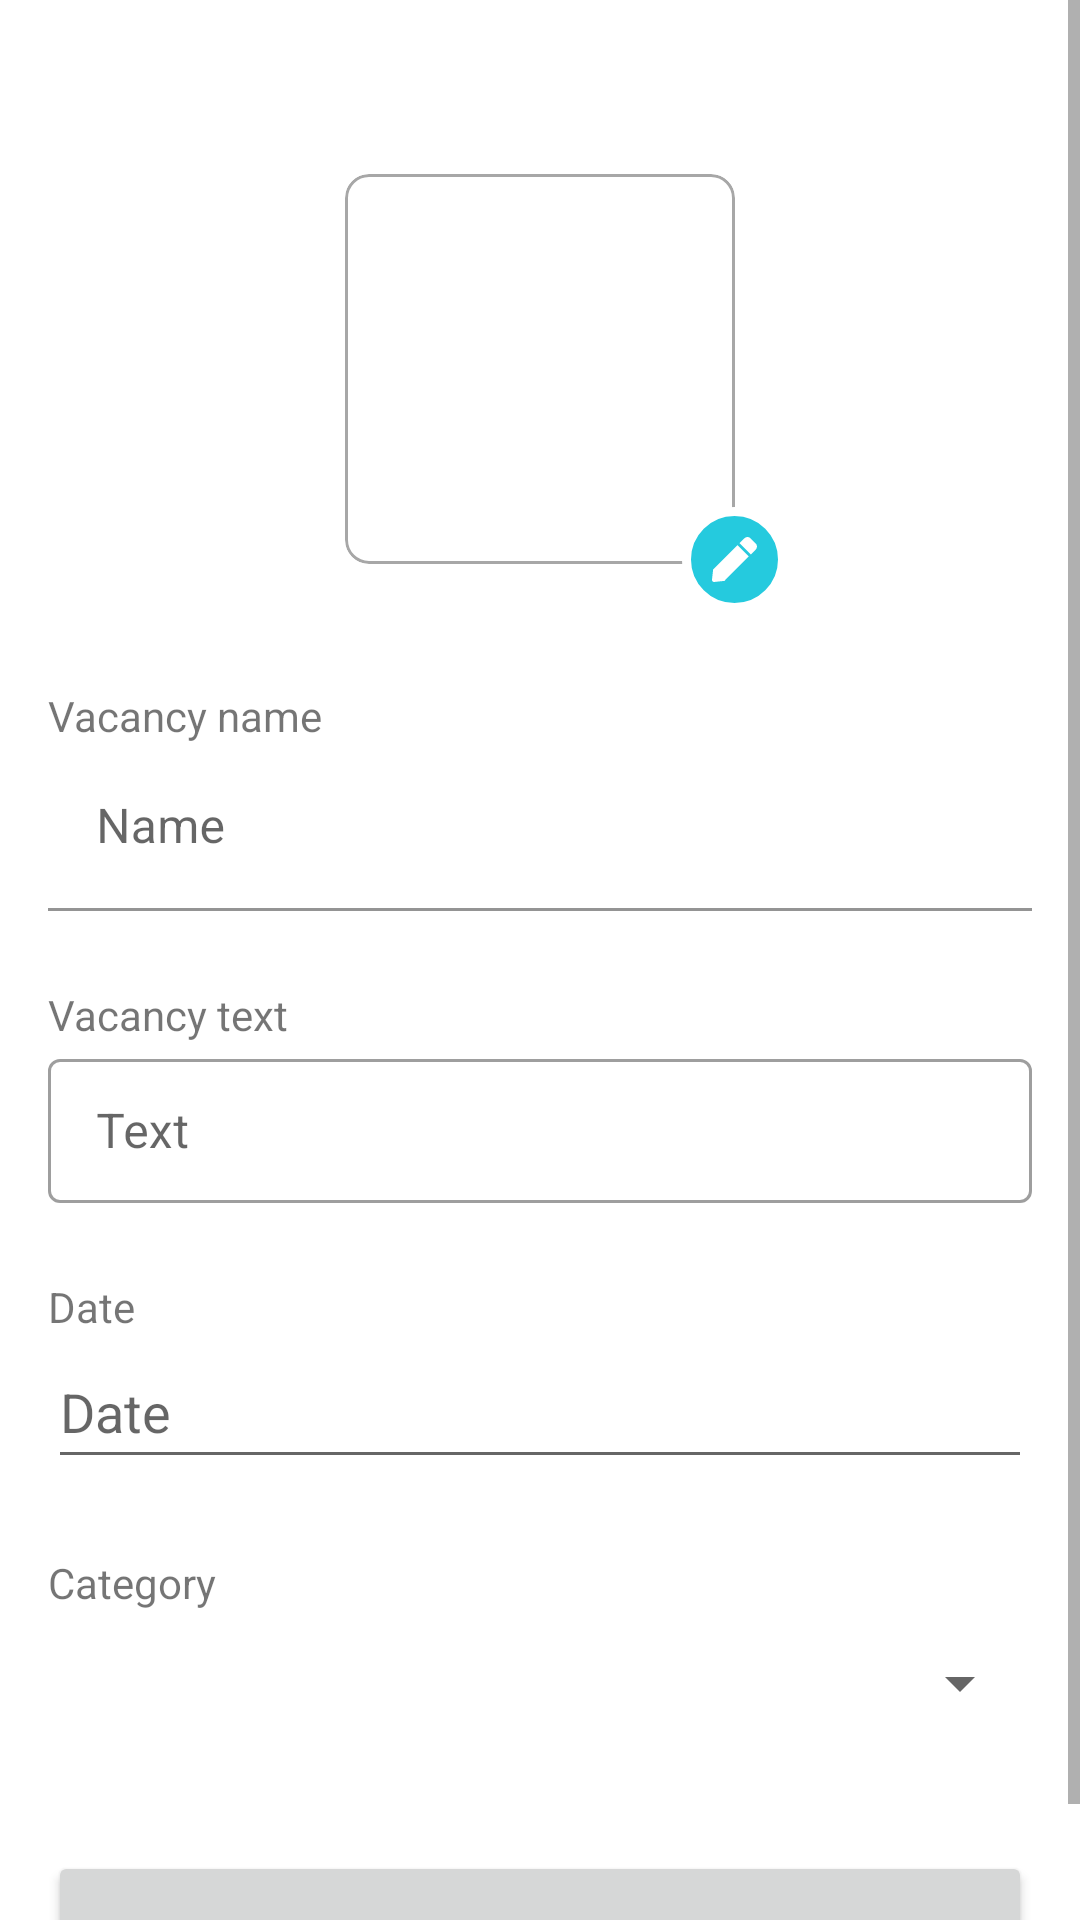

Where to tap for icons on this 1080w x 1920h app screen, as (x=x, y=y):
pencil: (x=734, y=559)
